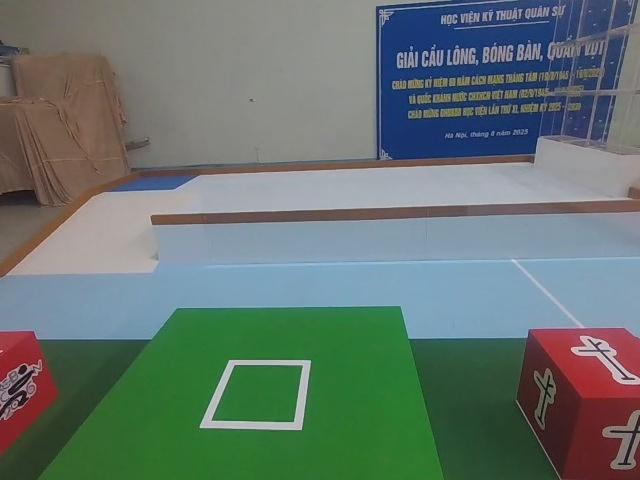R1: (2, 326, 61, 465)
R2 Real: (511, 323, 640, 480)
